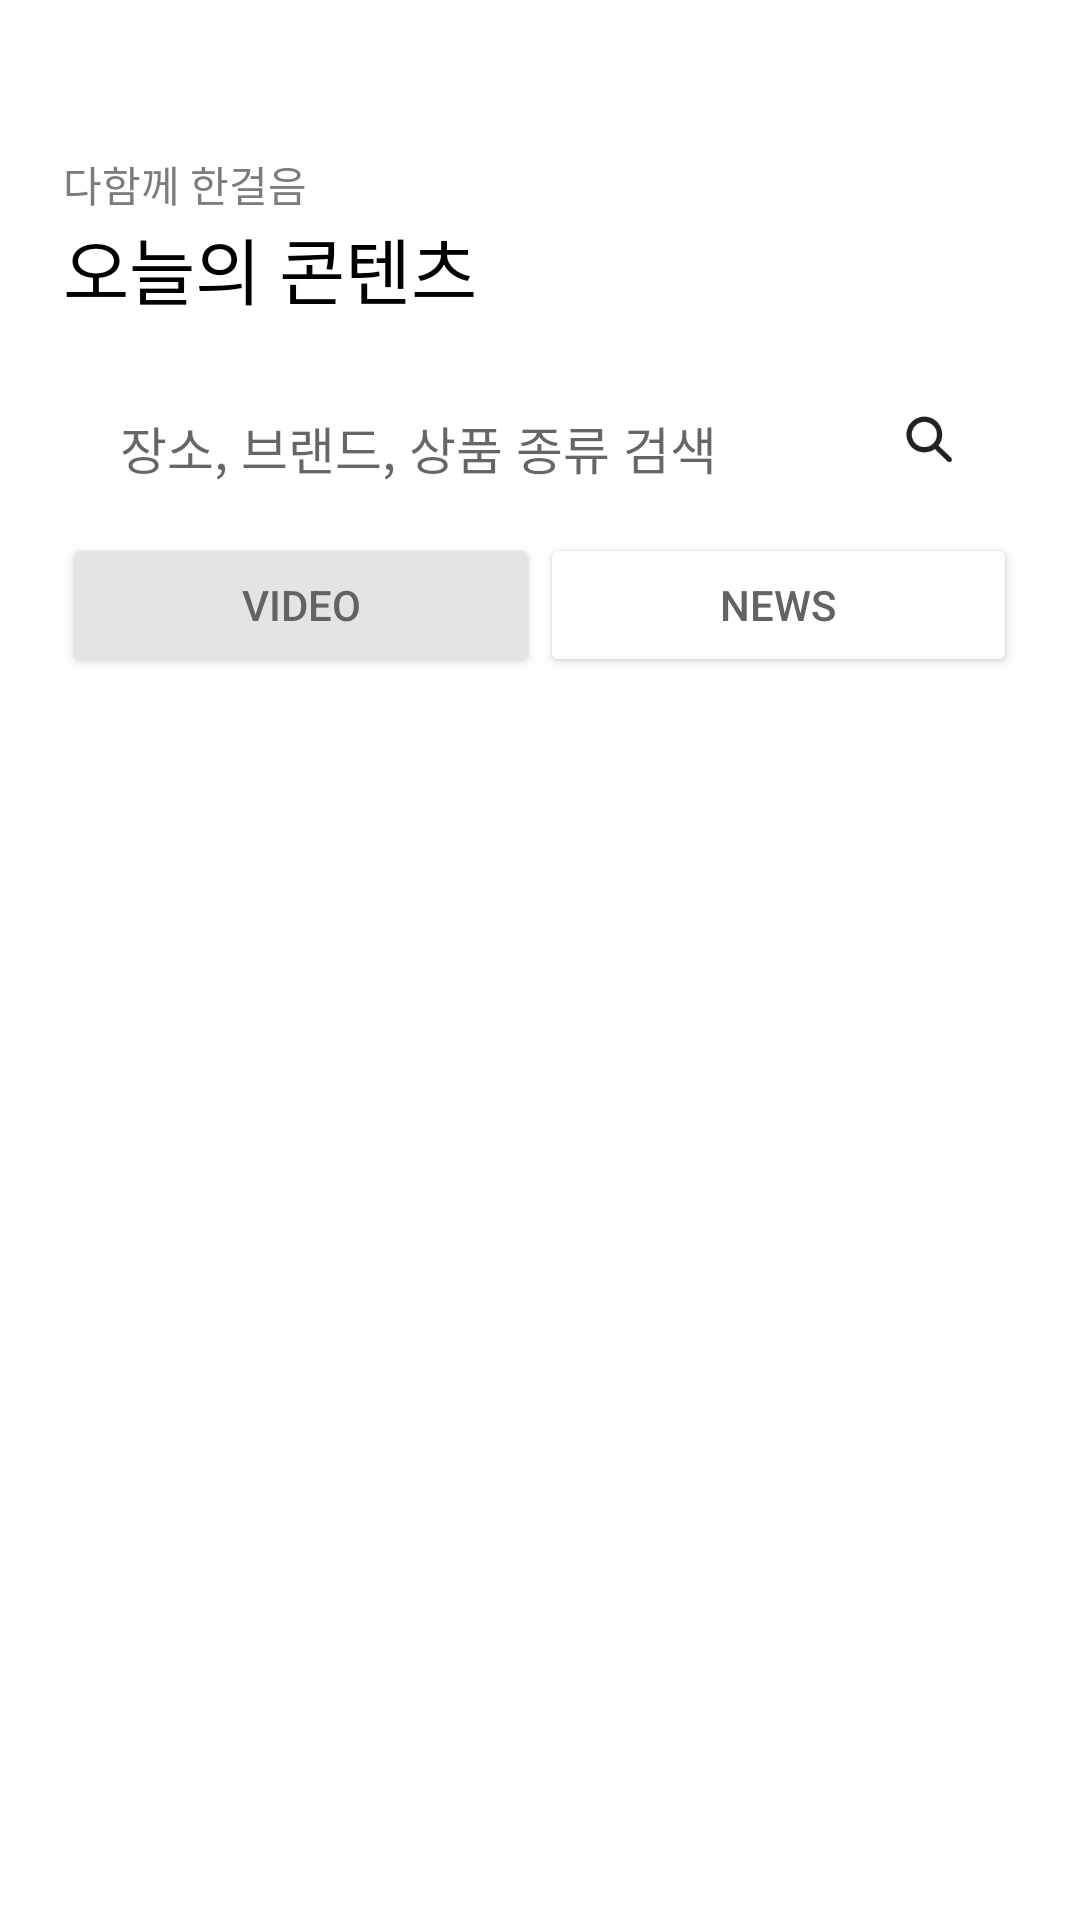

Named icons in this screenshot (1080 × 1920) and their centers, (x,y):
map search: (929,439)
